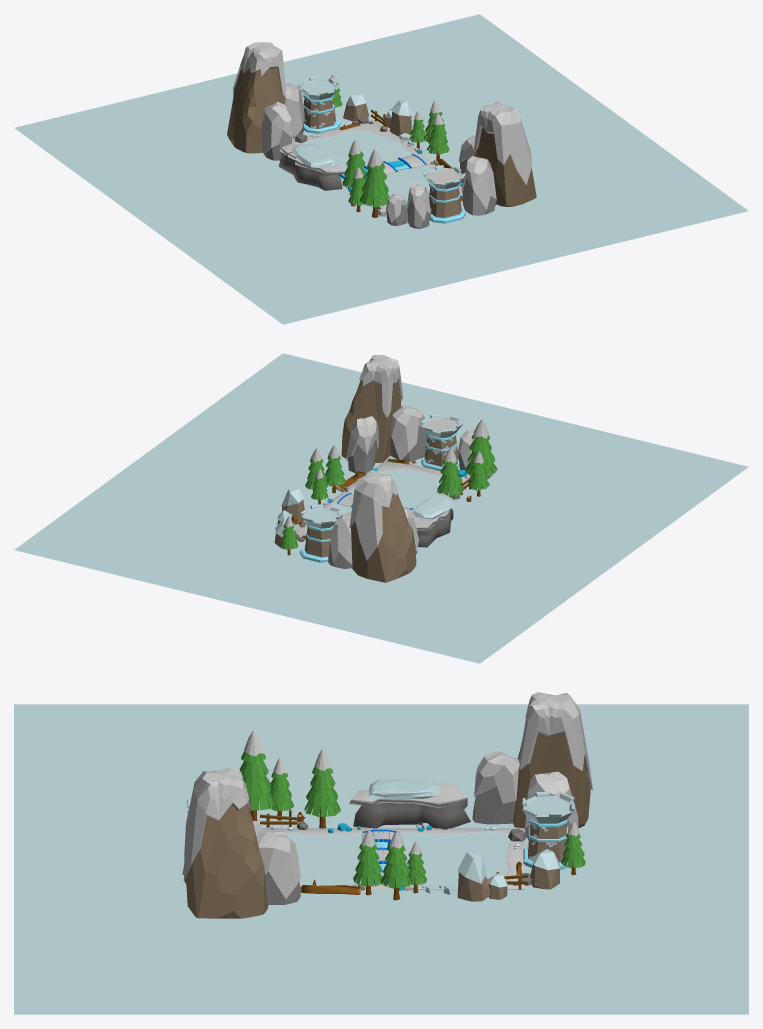
The model's file is env_ice.fbx.
3 renders of one model, top to bottom at view 1: azimuth 30°, elevation 25°; view 2: azimuth 150°, elevation 25°; view 3: azimuth 270°, elevation 25°, orthographic. The views are drawn at different scales.
Parts seen in each view (by area): view 1: plan, polySurface64, polySurface65, ground, polySurface82, turn, turn_2, polySurface37, zapada, polySurface74, Rock35, polySurface61 (+3 smaller); view 2: plan, polySurface64, polySurface65, turn, turn_2, polySurface82, ground, polySurface37, zapada, polySurface78, polySurface61, Rock35 (+1 smaller); view 3: plan, polySurface65, polySurface64, ground, polySurface82, turn_2, zapada, polySurface37, polySurface78, Rock35, polySurface69, polySurface61 (+5 smaller).
Boxes of the visible parts, left/top/right/bottom form: plan: left=14, top=14, right=748, bottom=324; polySurface64: left=227, top=42, right=304, bottom=160; polySurface65: left=458, top=101, right=536, bottom=215; ground: left=298, top=130, right=462, bottom=207; polySurface82: left=278, top=143, right=343, bottom=190; turn: left=423, top=165, right=465, bottom=223; turn_2: left=297, top=76, right=340, bottom=133; polySurface37: left=360, top=149, right=389, bottom=217; zapada: left=292, top=119, right=462, bottom=217; polySurface74: left=407, top=183, right=430, bottom=228; Rock35: left=389, top=100, right=413, bottom=136; polySurface61: left=427, top=112, right=449, bottom=160; plan: left=14, top=353, right=748, bottom=663; polySurface64: left=328, top=470, right=418, bottom=582; polySurface65: left=341, top=355, right=427, bottom=473; turn: left=420, top=413, right=462, bottom=470; turn_2: left=299, top=504, right=343, bottom=562; polySurface82: left=411, top=493, right=455, bottom=547; ground: left=329, top=469, right=454, bottom=516; polySurface37: left=465, top=419, right=497, bottom=488; zapada: left=296, top=458, right=468, bottom=540; polySurface78: left=437, top=447, right=463, bottom=497; polySurface61: left=325, top=445, right=345, bottom=493; Rock35: left=281, top=488, right=304, bottom=524; plan: left=14, top=704, right=748, bottom=1014; polySurface65: left=182, top=767, right=300, bottom=918; polySurface64: left=472, top=692, right=592, bottom=840; ground: left=285, top=832, right=524, bottom=889; polySurface82: left=349, top=778, right=470, bottom=829; turn_2: left=522, top=792, right=574, bottom=869; zapada: left=255, top=828, right=524, bottom=889; polySurface37: left=239, top=730, right=274, bottom=820; polySurface78: left=304, top=749, right=340, bottom=828; Rock35: left=457, top=852, right=489, bottom=901; polySurface69: left=380, top=830, right=411, bottom=900; polySurface61: left=353, top=829, right=382, bottom=895.
Bounding box in the file's own units: 61.66 × 15.46 × 61.66.
